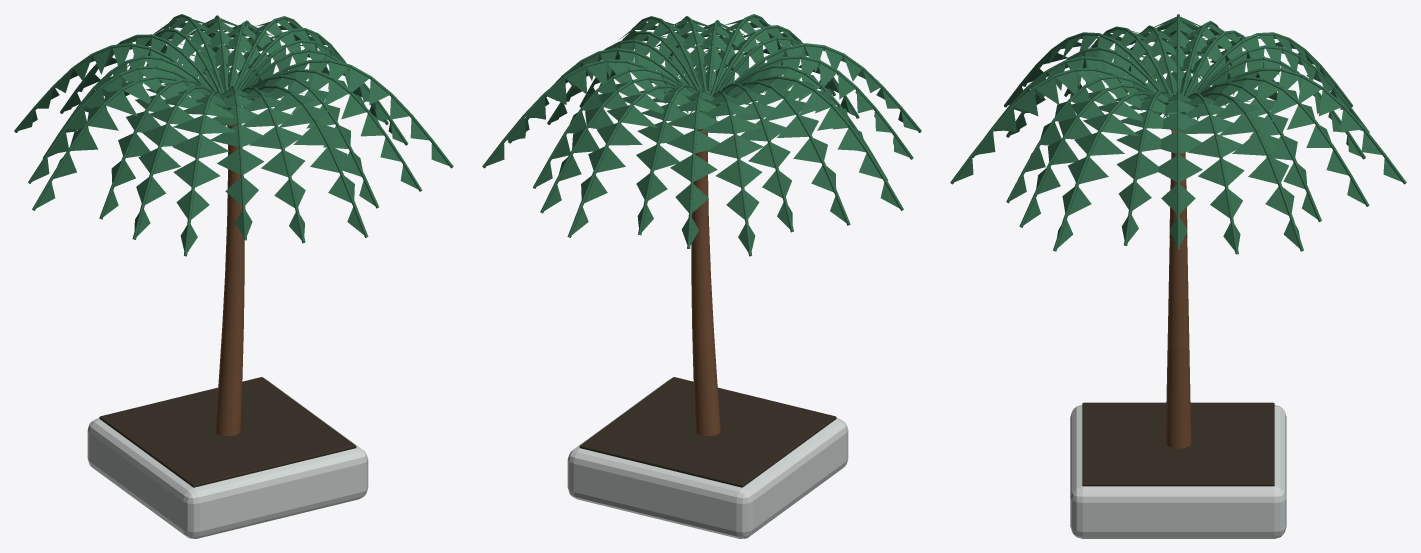
Rendered from CoastalPalm.fbx.
3 renders of one model, left to right at view 1: azimuth 30°, elevation 25°; view 2: azimuth 150°, elevation 25°; view 3: azimuth 270°, elevation 25°, orthographic. The views are drawn at different scales.
Visible parts, largest first — view 1: CoastalPalm; view 2: CoastalPalm; view 3: CoastalPalm.
Part boxes in pixels (<box>): CoastalPalm: <box>14,14,453,538</box>; CoastalPalm: <box>482,14,921,538</box>; CoastalPalm: <box>950,14,1406,538</box>.
Size of the model in its own units: 460 by 511 by 486.
